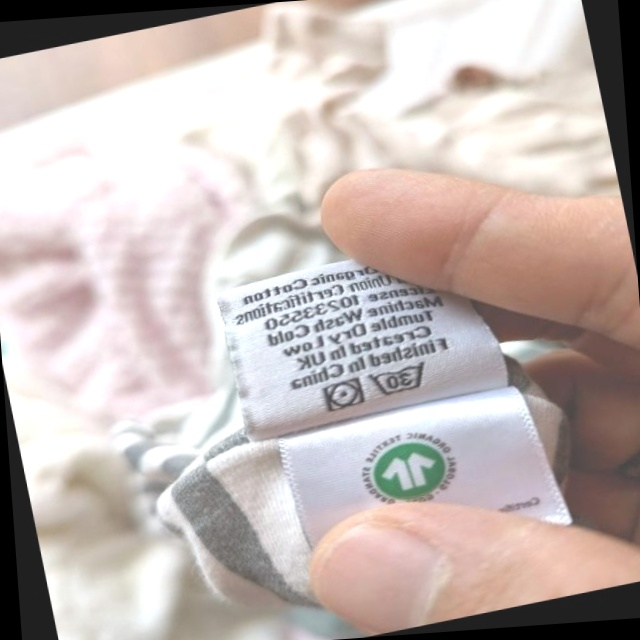30C: (364, 356, 436, 403)
tumble_dry_low: (318, 373, 369, 417)
